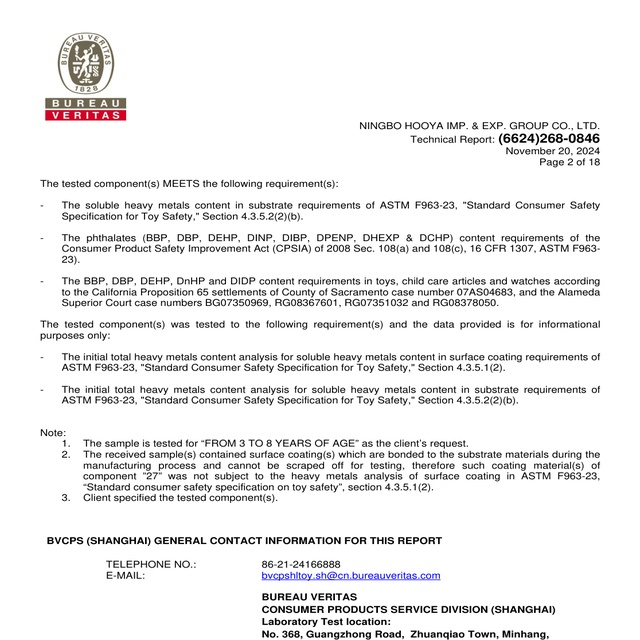bureau_veritas: (42, 27, 130, 126)
